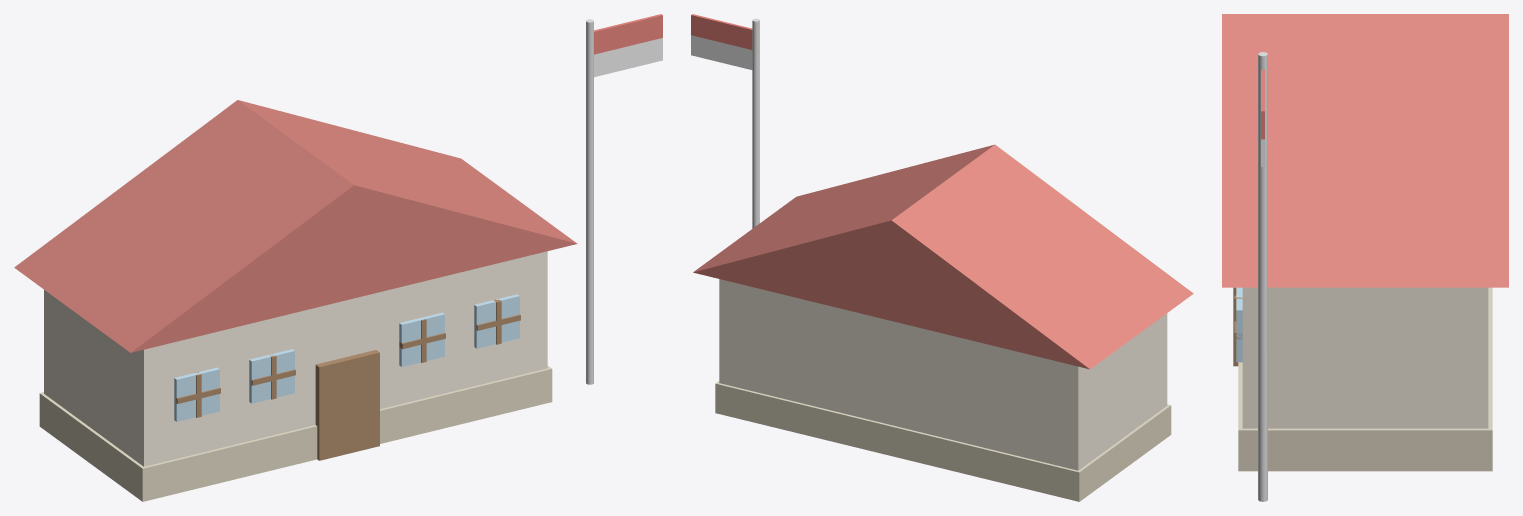
File: sekolah.glb
3 views of the same model, side by side, from view 1: azimuth 30°, elevation 25°; view 2: azimuth 150°, elevation 25°; view 3: azimuth 270°, elevation 25° (orthographic). The views are drawn at different scales.
Parts seen in each view (by area): view 1: sekolah; view 2: sekolah; view 3: sekolah.
Boxes of the visible parts, left/top/right/bottom form: sekolah: left=14, top=14, right=662, bottom=501; sekolah: left=691, top=14, right=1193, bottom=501; sekolah: left=1222, top=14, right=1508, bottom=501.
Bounding box in the file's own units: 3.8 × 2.4 × 1.4.
